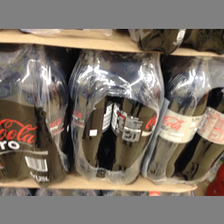soda: (143, 54, 211, 180), (19, 46, 68, 187), (112, 52, 165, 181), (67, 50, 116, 177)
